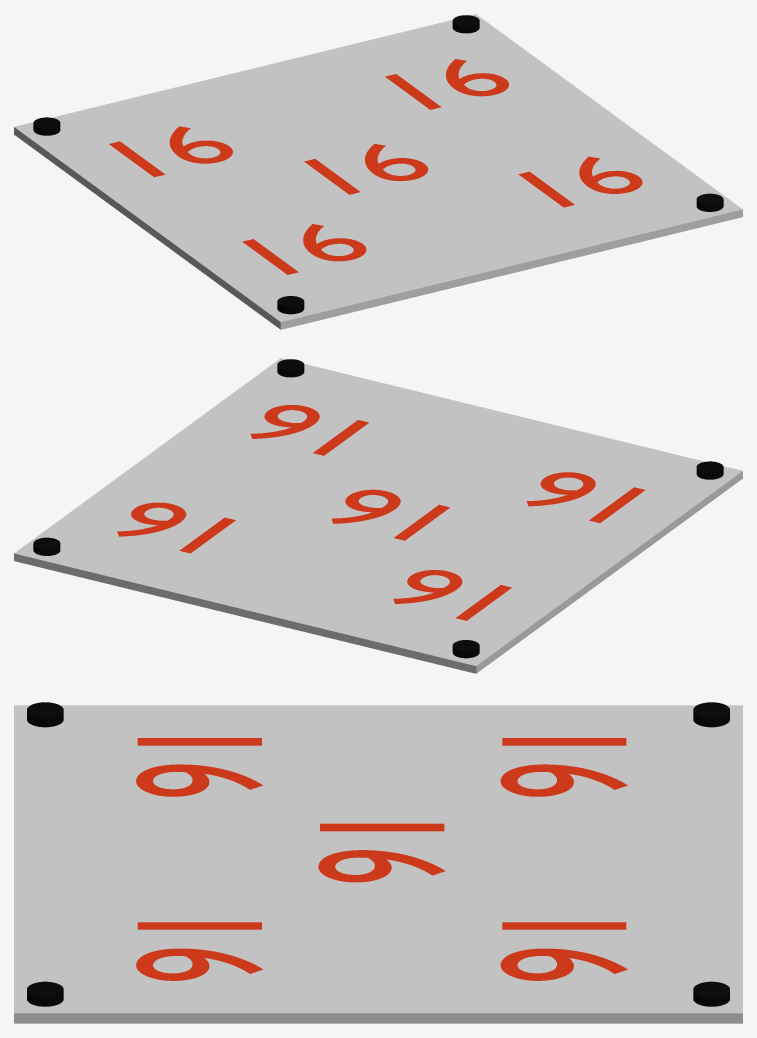
The model's file is n16_stable.fbx.
3 views of the same model, one above another, from view 1: azimuth 30°, elevation 25°; view 2: azimuth 150°, elevation 25°; view 3: azimuth 270°, elevation 25° (orthographic). The views are drawn at different scales.
Parts seen in each view (by area): view 1: Plane, 16, Cylinder; view 2: Plane, 16, Cylinder; view 3: Plane, 16, Cylinder.
Part boxes in pixels (x1,y1,x2,y2): Plane: [14, 14, 742, 329]; 16: [109, 59, 642, 274]; Cylinder: [33, 15, 723, 314]; Plane: [14, 358, 742, 673]; 16: [117, 405, 644, 620]; Cylinder: [33, 359, 723, 658]; Plane: [14, 705, 742, 1023]; 16: [136, 738, 627, 980]; Cylinder: [27, 702, 729, 1006].
Bounding box in the file's own units: 200 × 6.02 × 200.
